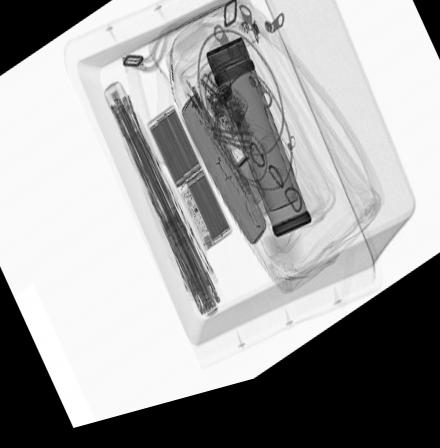Powerbank: (143, 109, 232, 269)
